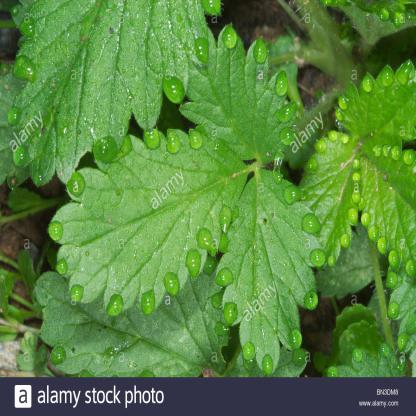Strawberry leaf: (45, 124, 246, 321), (214, 163, 326, 369), (174, 24, 298, 169), (296, 127, 363, 281), (353, 138, 416, 284), (335, 59, 416, 154)
